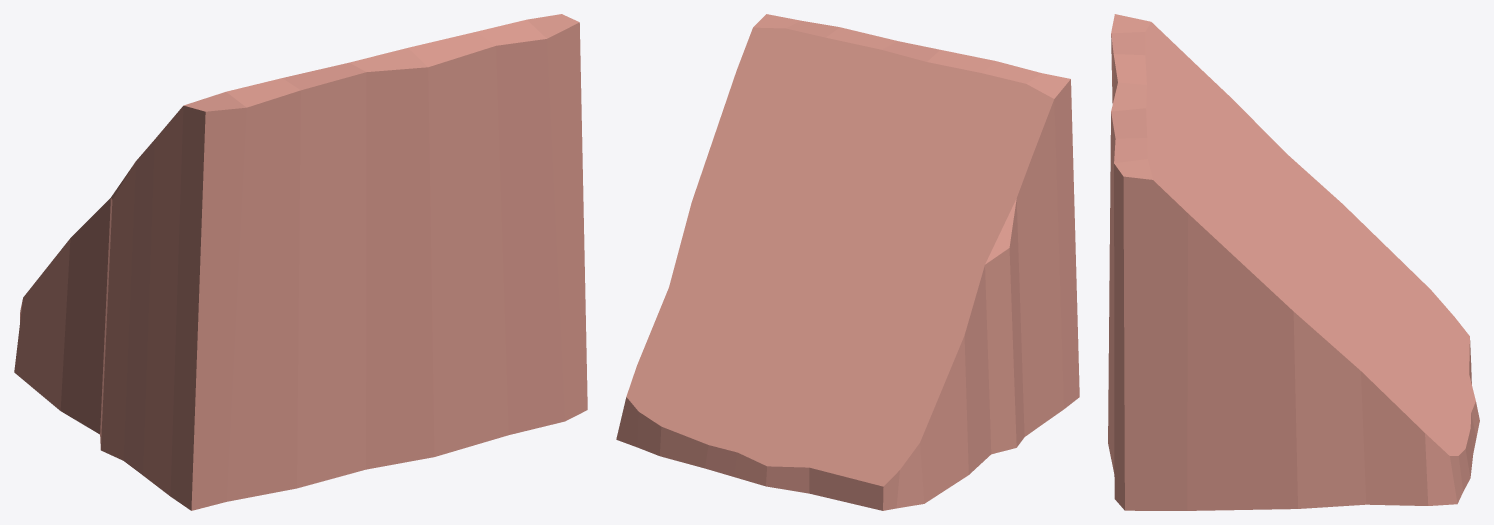
File: SuperGrid_Stairs2.fbx
3 views of the same model, side by side, from view 1: azimuth 30°, elevation 25°; view 2: azimuth 150°, elevation 25°; view 3: azimuth 270°, elevation 25° (orthographic). The views are drawn at different scales.
Parts seen in each view (by area): view 1: SuperGrid_Stairs2; view 2: SuperGrid_Stairs2; view 3: SuperGrid_Stairs2.
Boxes of the visible parts, <box> form: SuperGrid_Stairs2: <box>14,14,587,510</box>; SuperGrid_Stairs2: <box>616,14,1079,510</box>; SuperGrid_Stairs2: <box>1108,14,1479,510</box>.
Bounding box in the file's own units: 108 × 101 × 101.
